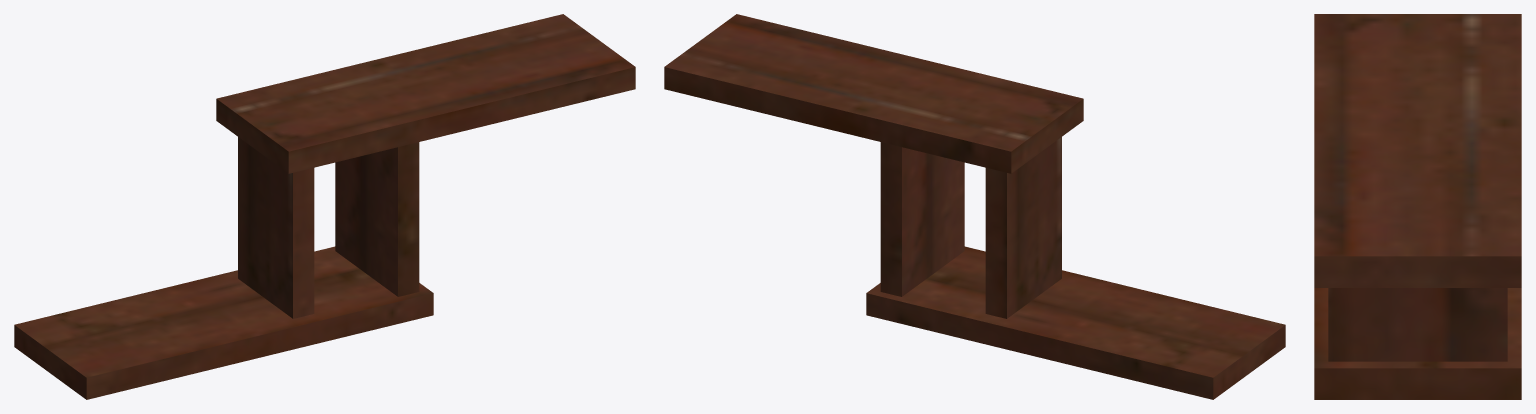
The model's file is polka.fbx.
3 renders of one model, left to right at view 1: azimuth 30°, elevation 25°; view 2: azimuth 150°, elevation 25°; view 3: azimuth 270°, elevation 25°, orthographic. The views are drawn at different scales.
Visible parts, largest first — view 1: Cube.027; view 2: Cube.027; view 3: Cube.027.
Part boxes in pixels (<box>): Cube.027: <box>14,14,635,399</box>; Cube.027: <box>664,14,1285,399</box>; Cube.027: <box>1314,14,1521,399</box>.
Bounding box in the file's own units: 317 × 110 × 72.32.
